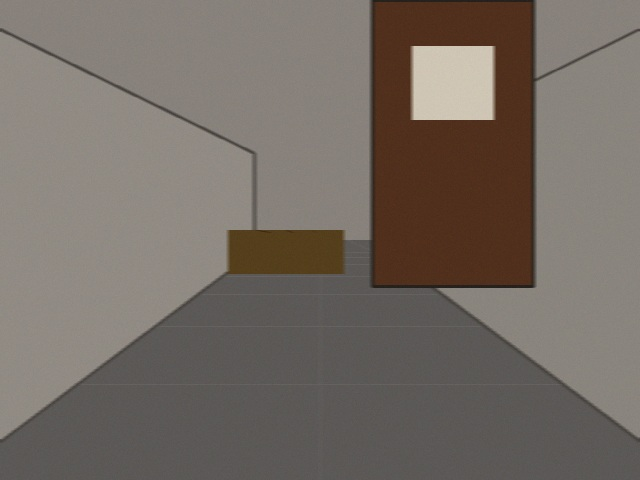cart: (424, 180, 531, 274)
directional_sign: (428, 177, 492, 209)
door: (372, 0, 533, 286)
pallet: (228, 230, 343, 273)
